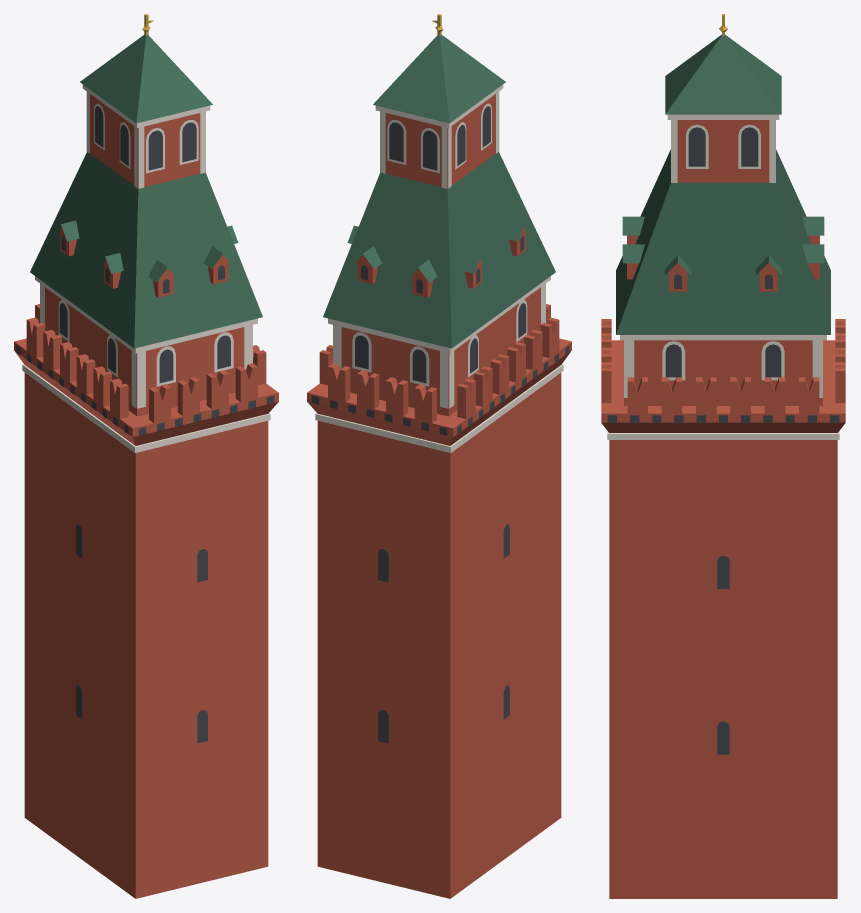
File: moscow-kremlin-commandants-tower.glb
3 renders of one model, left to right at view 1: azimuth 30°, elevation 25°; view 2: azimuth 150°, elevation 25°; view 3: azimuth 270°, elevation 25°, orthographic. The views are drawn at different scales.
Parts seen in each view (by area): view 1: Commandant's Tower; view 2: Commandant's Tower; view 3: Commandant's Tower.
Boxes of the visible parts, x1,y1,x2,y2 form: Commandant's Tower: (14, 14, 278, 898); Commandant's Tower: (307, 14, 571, 898); Commandant's Tower: (601, 14, 845, 898).
Size of the model in its own units: 7.7 by 41.1 by 10.8.
